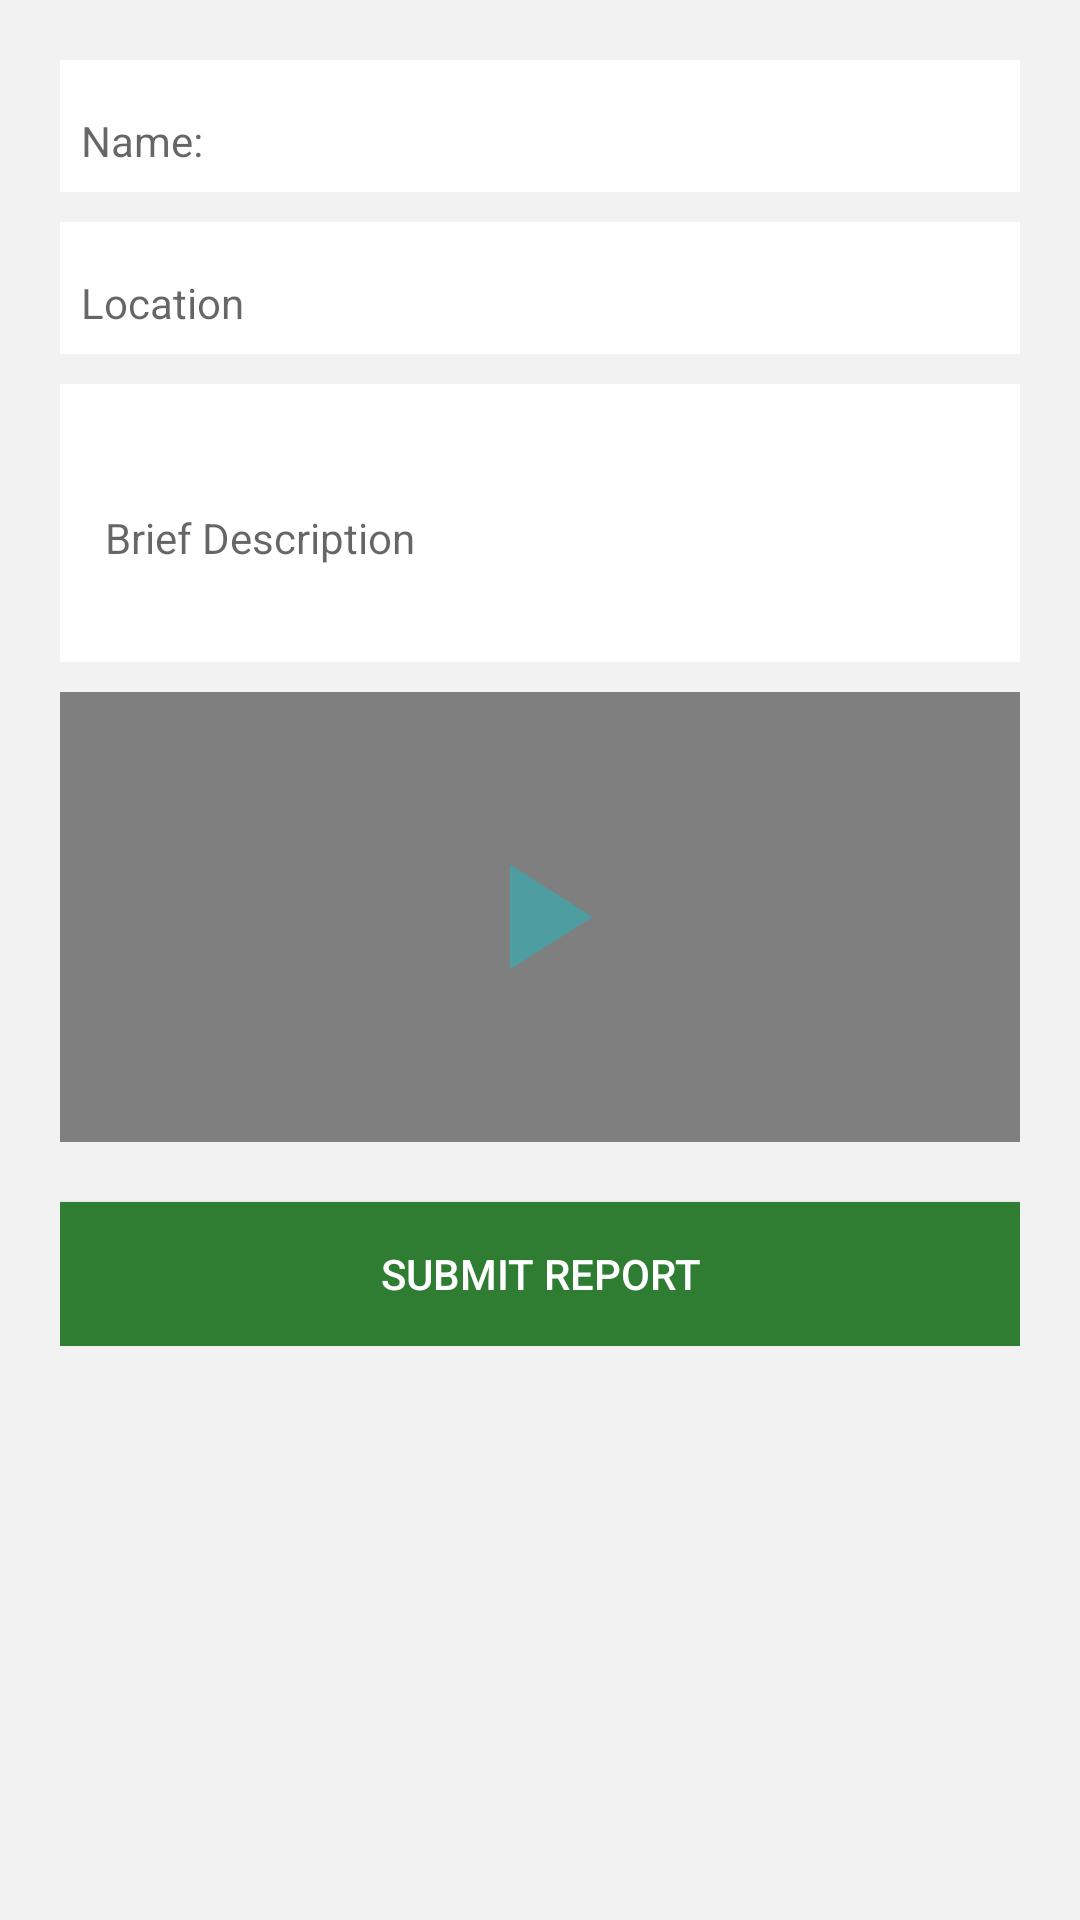

Where to tap for icons on this 1080 × 1920 app screen, as (x=x, y=y):
play arrow: (x=551, y=917)
